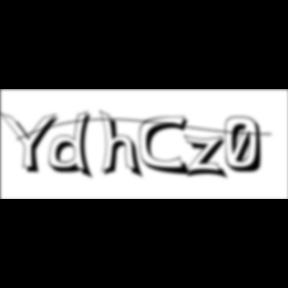0: (226, 115, 270, 174)
C: (140, 115, 195, 178)
Y: (0, 110, 66, 176)
d: (49, 110, 99, 182)
h: (100, 108, 146, 182)
z: (184, 134, 232, 182)
